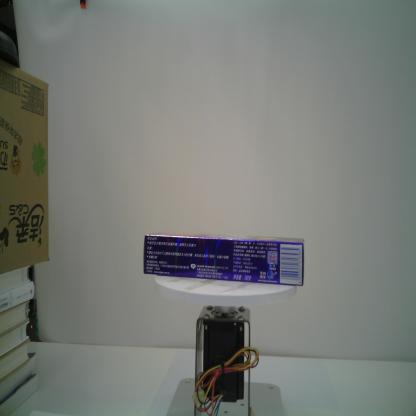Personal Hygiene: (143, 233, 304, 286)
